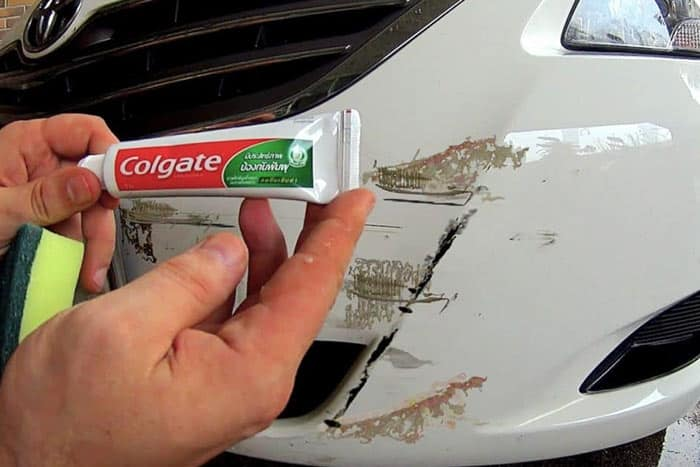scratch: (332, 370, 479, 443), (374, 141, 525, 197), (344, 258, 456, 331), (119, 202, 194, 263)
